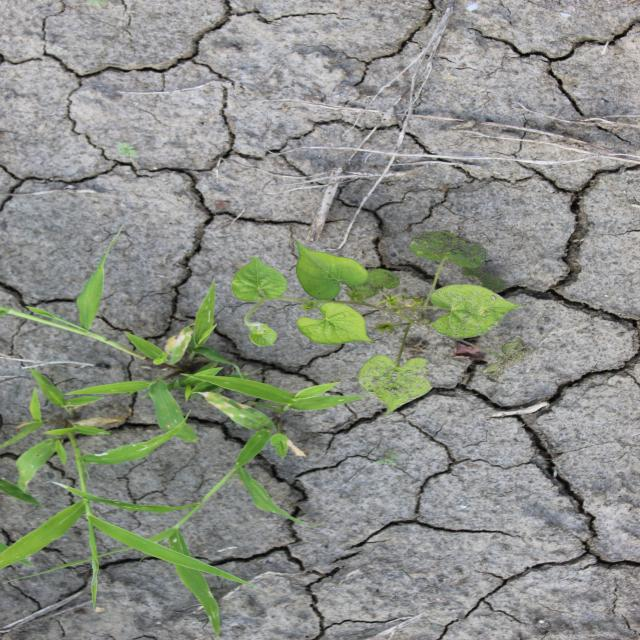MorningGlory: (229, 228, 532, 416)
